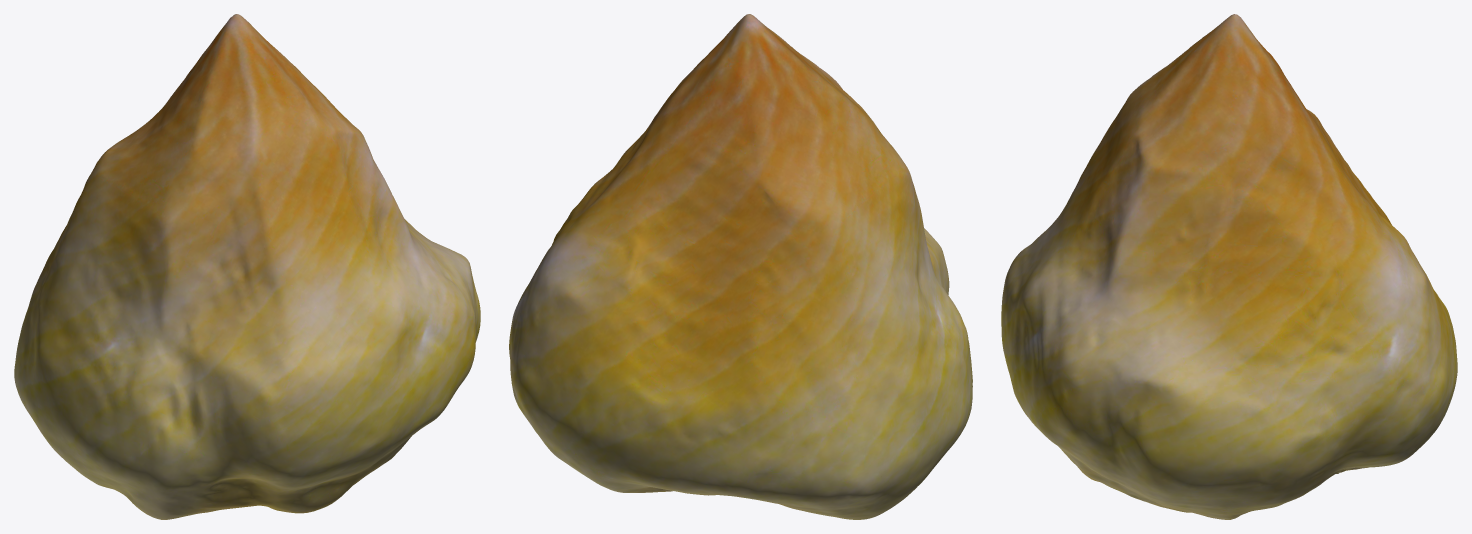
Rendered from bd66692208bb_Cloud_citrine_min.fbx.
The picture shows the model from 3 angles, left to right: view 1: azimuth 30°, elevation 25°; view 2: azimuth 150°, elevation 25°; view 3: azimuth 270°, elevation 25°; orthographic projection. The views are drawn at different scales.
Visible parts, largest first — view 1: high_poly; view 2: high_poly; view 3: high_poly.
Boxes of the visible parts, left/top/right/bottom form: high_poly: left=14, top=14, right=480, bottom=519; high_poly: left=509, top=14, right=972, bottom=519; high_poly: left=1001, top=14, right=1457, bottom=519.
Size of the model in its own units: 90.18 by 100 by 89.96.
